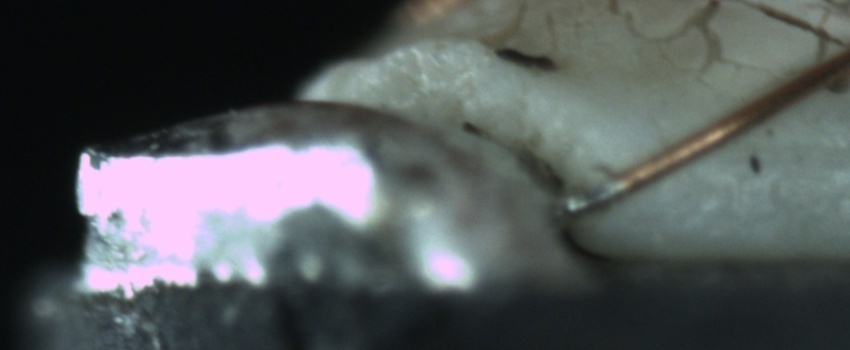CL: (804, 11, 849, 81)
DL: (733, 125, 847, 178)
TS: (565, 178, 622, 216)
